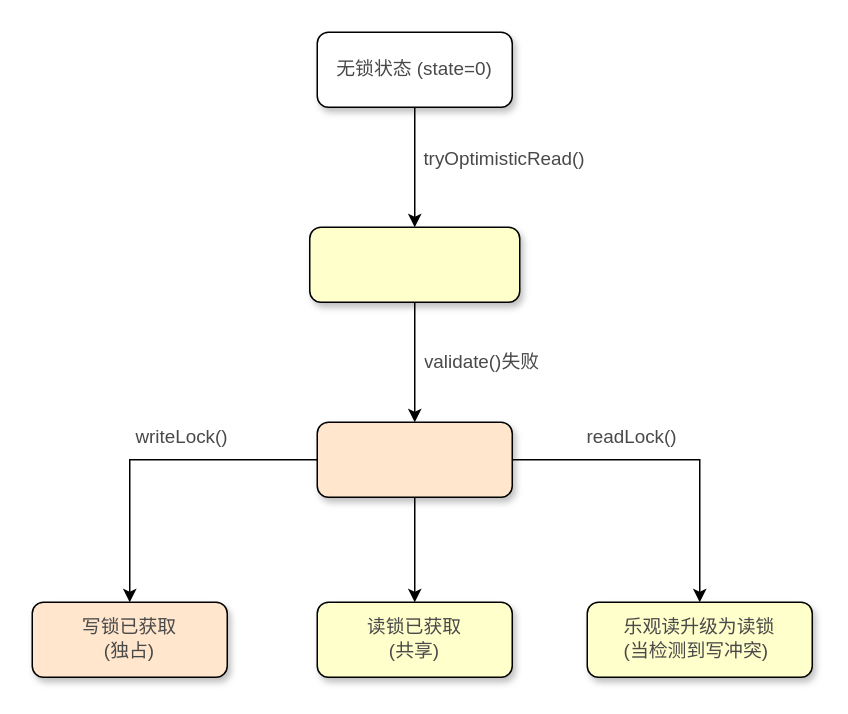
The diagram is 848 pixels wide and 714 high, and some of its shapes have lost their labels. Here are the shapes that lost their labels. From the top down, the centre of each, then its label:
At (415,266): "乐观读模式 stamp有效时可用".
At (415,461): "写锁等待队列".
